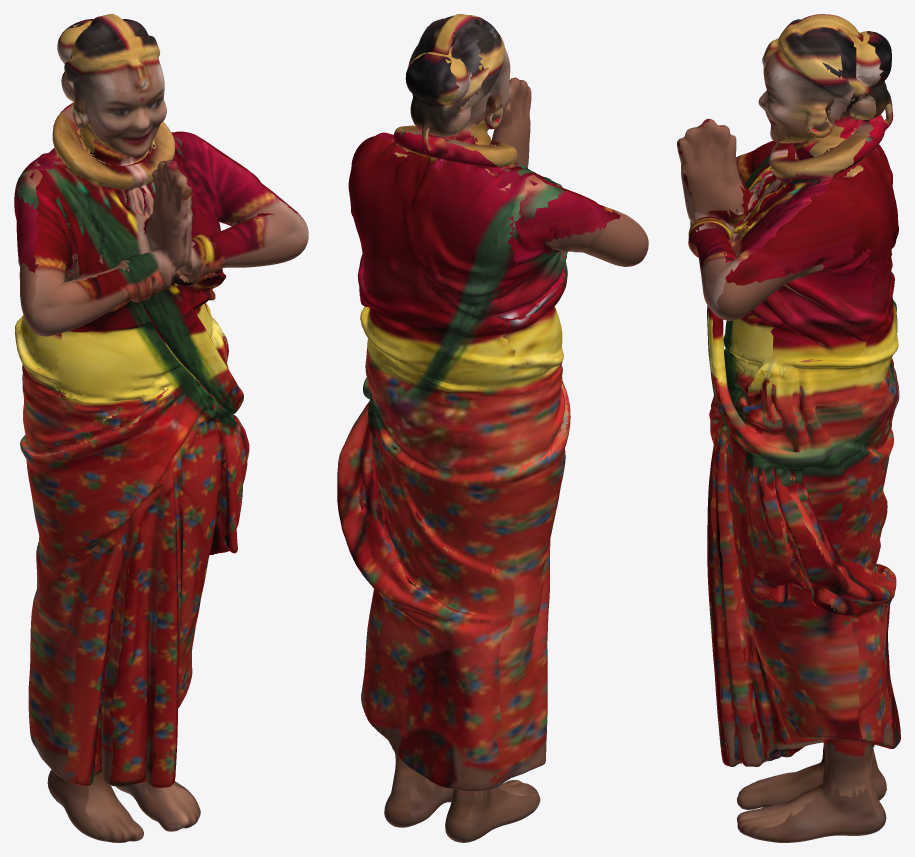
File: nepali_woman_v3.glb
The picture shows the model from 3 angles, left to right: view 1: azimuth 30°, elevation 25°; view 2: azimuth 150°, elevation 25°; view 3: azimuth 270°, elevation 25°; orthographic projection.
Parts seen in each view (by area): view 1: gunyu, cholo, arms, pote, patuka, head, feet, kantha, chura, shirbandi; view 2: gunyu, cholo, patuka, pote, head, feet, arms, kantha, shirbandi; view 3: gunyu, cholo, patuka, pote, head, feet, arms, kantha, shirbandi, chura.
Boxes of the visible parts, x1=… form: gunyu: x1=20, y1=355, x2=249, y2=787; cholo: x1=14, y1=131, x2=299, y2=326; arms: x1=18, y1=159, x2=308, y2=336; pote: x1=14, y1=160, x2=243, y2=433; patuka: x1=15, y1=286, x2=228, y2=402; head: x1=57, y1=14, x2=166, y2=147; feet: x1=47, y1=770, x2=200, y2=842; kantha: x1=52, y1=94, x2=192, y2=192; chura: x1=113, y1=230, x2=226, y2=297; shirbandi: x1=57, y1=25, x2=163, y2=91; gunyu: x1=337, y1=340, x2=570, y2=802; cholo: x1=348, y1=132, x2=622, y2=318; patuka: x1=358, y1=282, x2=566, y2=399; pote: x1=363, y1=166, x2=567, y2=407; head: x1=406, y1=14, x2=511, y2=129; feet: x1=384, y1=776, x2=540, y2=842; arms: x1=492, y1=77, x2=648, y2=266; kantha: x1=384, y1=117, x2=528, y2=171; shirbandi: x1=405, y1=38, x2=508, y2=96; gunyu: x1=707, y1=358, x2=900, y2=797; cholo: x1=701, y1=140, x2=898, y2=326; patuka: x1=708, y1=271, x2=898, y2=411; pote: x1=707, y1=149, x2=898, y2=485; head: x1=758, y1=14, x2=890, y2=138; feet: x1=737, y1=755, x2=886, y2=842; arms: x1=677, y1=118, x2=824, y2=320; kantha: x1=769, y1=94, x2=893, y2=194; shirbandi: x1=762, y1=30, x2=891, y2=83; chura: x1=688, y1=184, x2=748, y2=257.
Bounding box in the file's own units: 0.5907 × 1.58 × 0.4009.
Materials: 10 (10 with a texture image).
